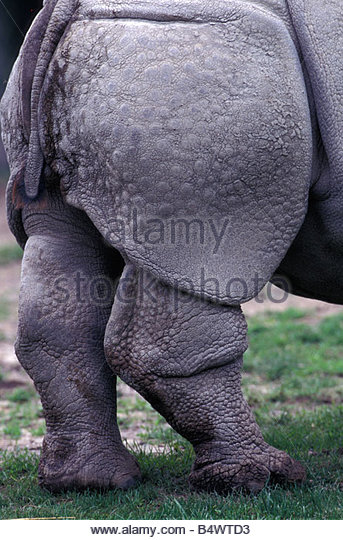rhinoceros: (1, 5, 343, 505)
